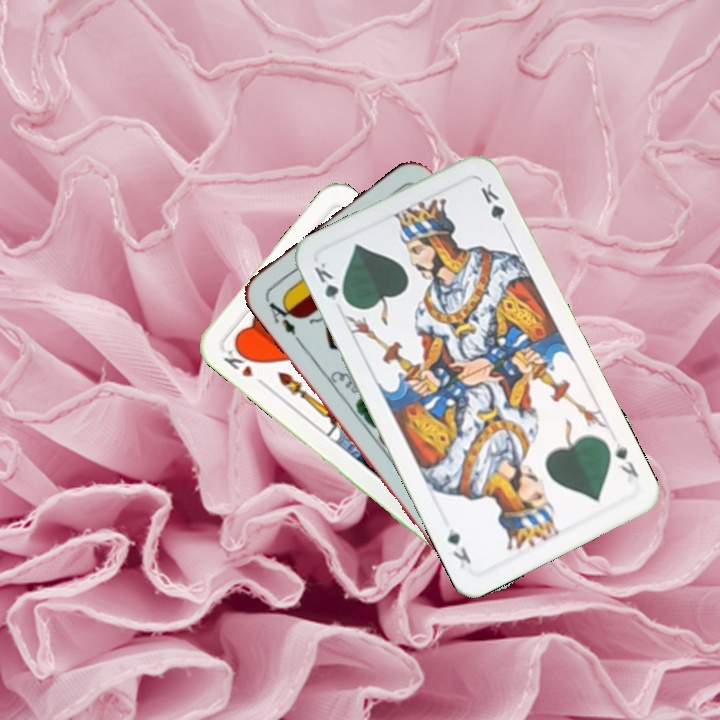EA: (261, 294, 303, 345)
GK: (310, 258, 351, 309), (611, 438, 641, 488)
HK: (219, 340, 269, 390)
